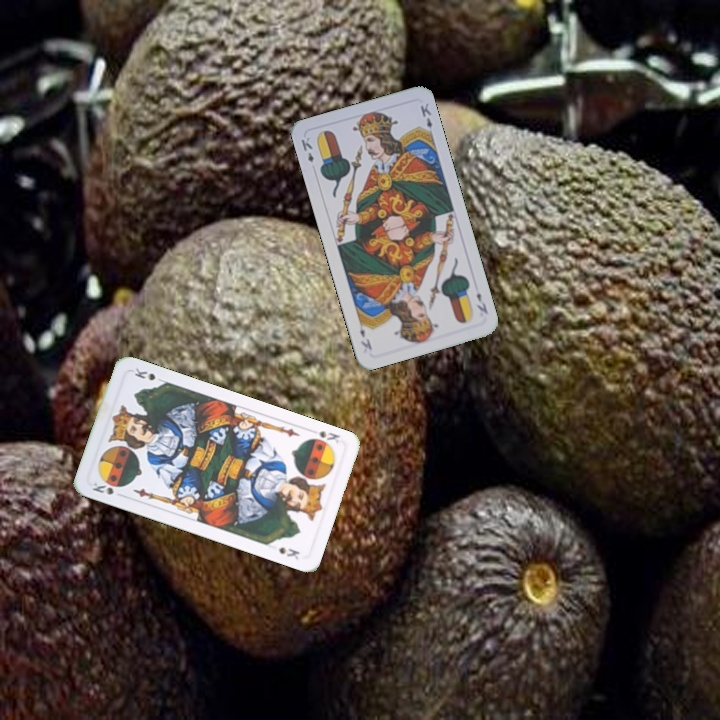EK: (297, 133, 316, 165), (473, 288, 491, 316)
SK: (87, 478, 127, 500), (315, 426, 342, 446)
